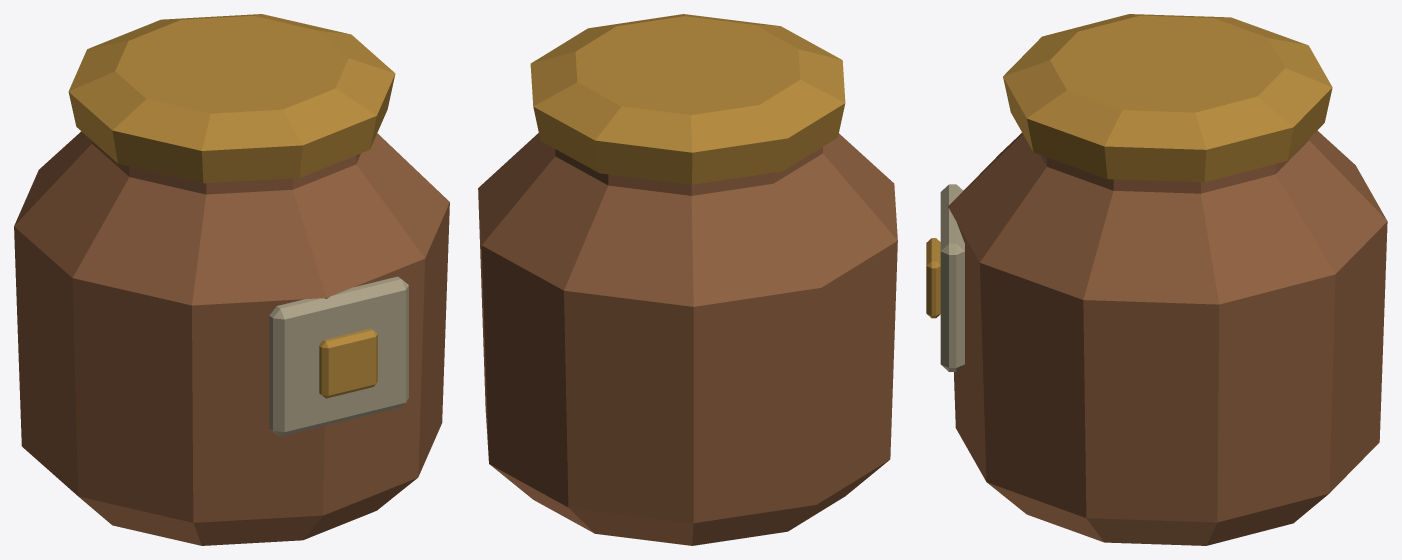
Rendered from honey_jar.glb.
The picture shows the model from 3 angles, left to right: view 1: azimuth 30°, elevation 25°; view 2: azimuth 150°, elevation 25°; view 3: azimuth 270°, elevation 25°; orthographic projection.
Parts seen in each view (by area): view 1: honey_jar; view 2: honey_jar; view 3: honey_jar.
Boxes of the visible parts, left/top/right/bottom form: honey_jar: left=14, top=14, right=449, bottom=545; honey_jar: left=478, top=14, right=897, bottom=545; honey_jar: left=926, top=14, right=1387, bottom=545.
Bounding box in the file's own units: 0.5445 × 0.58 × 0.5856.
